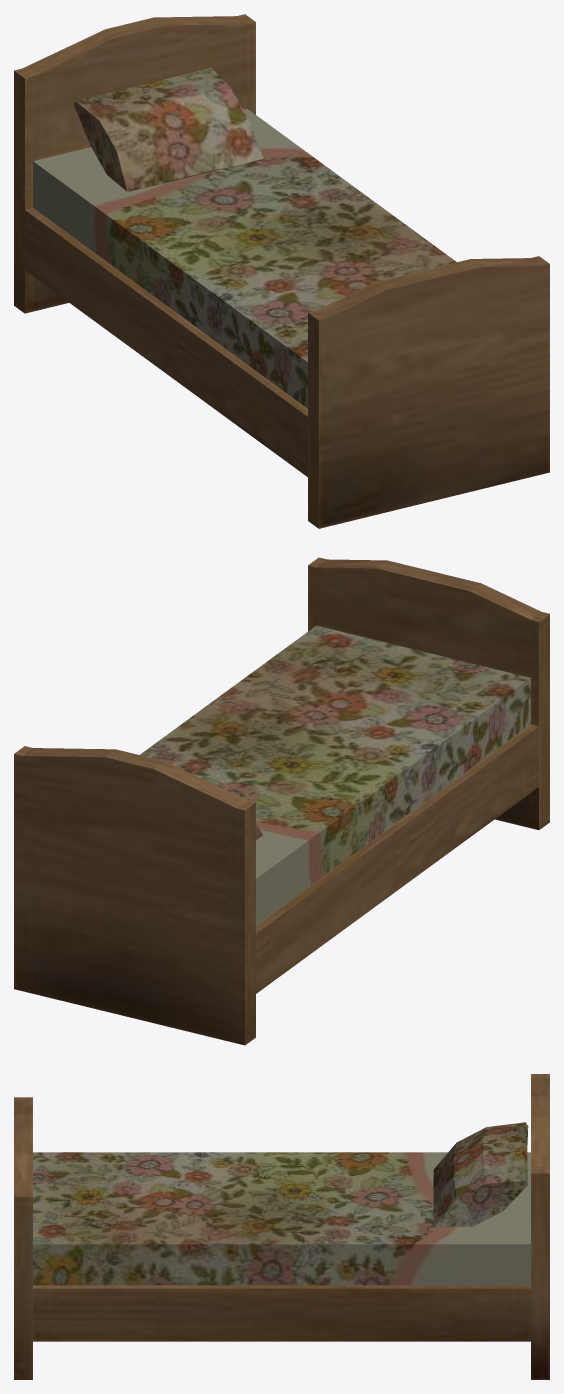
Rendered from Lova.fbx.
3 renders of one model, top to bottom at view 1: azimuth 30°, elevation 25°; view 2: azimuth 150°, elevation 25°; view 3: azimuth 270°, elevation 25°, orthographic. The views are drawn at different scales.
Visible parts, largest first — view 1: Bed; view 2: Bed; view 3: Bed.
Part boxes in pixels (bbox=[...]): Bed: bbox=[14, 14, 549, 528]; Bed: bbox=[14, 557, 549, 1045]; Bed: bbox=[14, 1074, 549, 1379].
Bounding box in the file's own units: 187 × 197 × 428.
2 materials, 2 textured.
